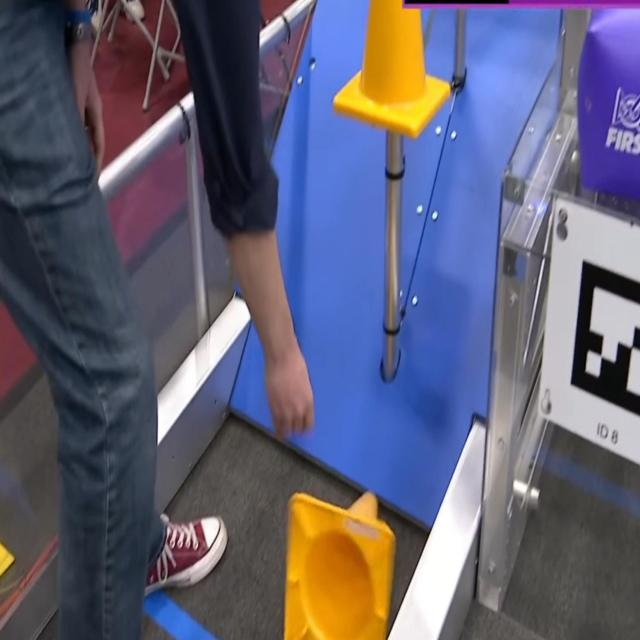frc_cone: (282, 492, 398, 640), (335, 0, 450, 141)
frc_cube: (578, 0, 640, 209)
